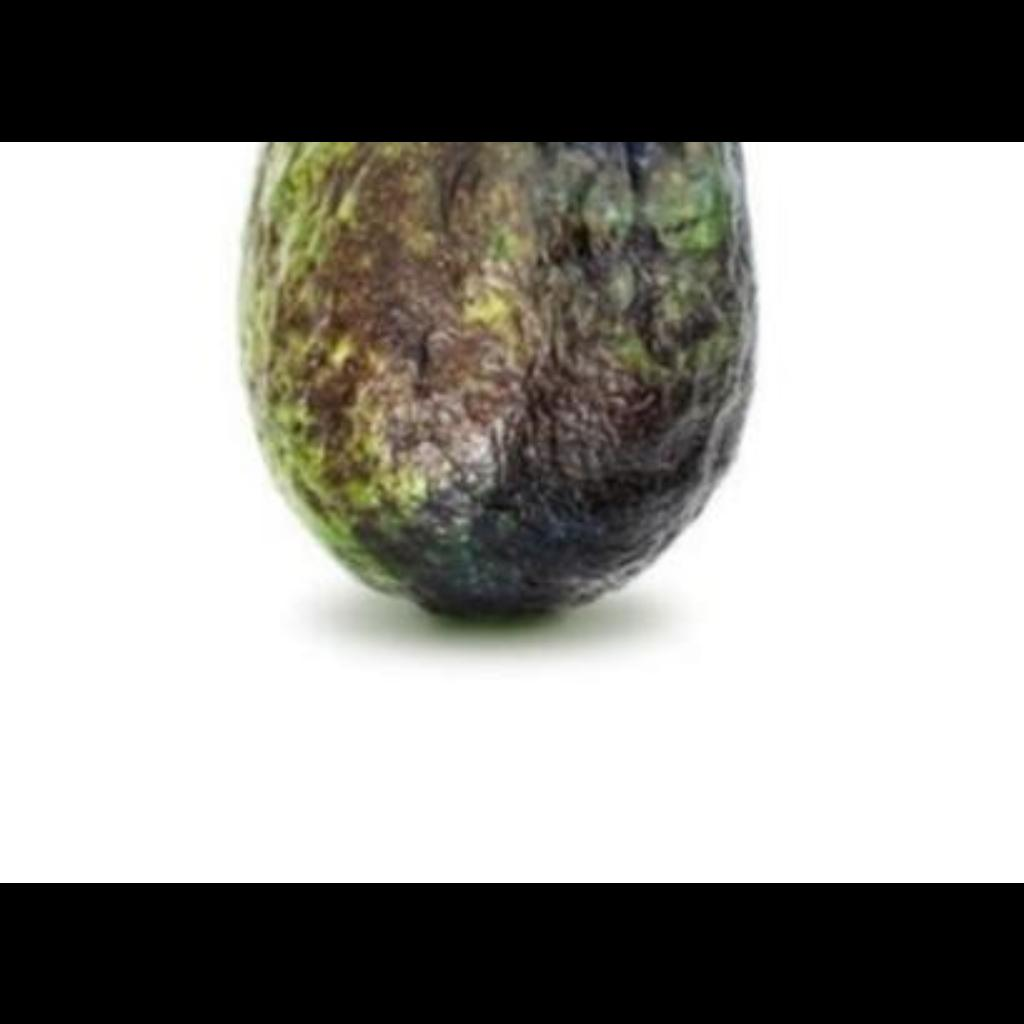Anthracnose: (228, 141, 776, 617)
